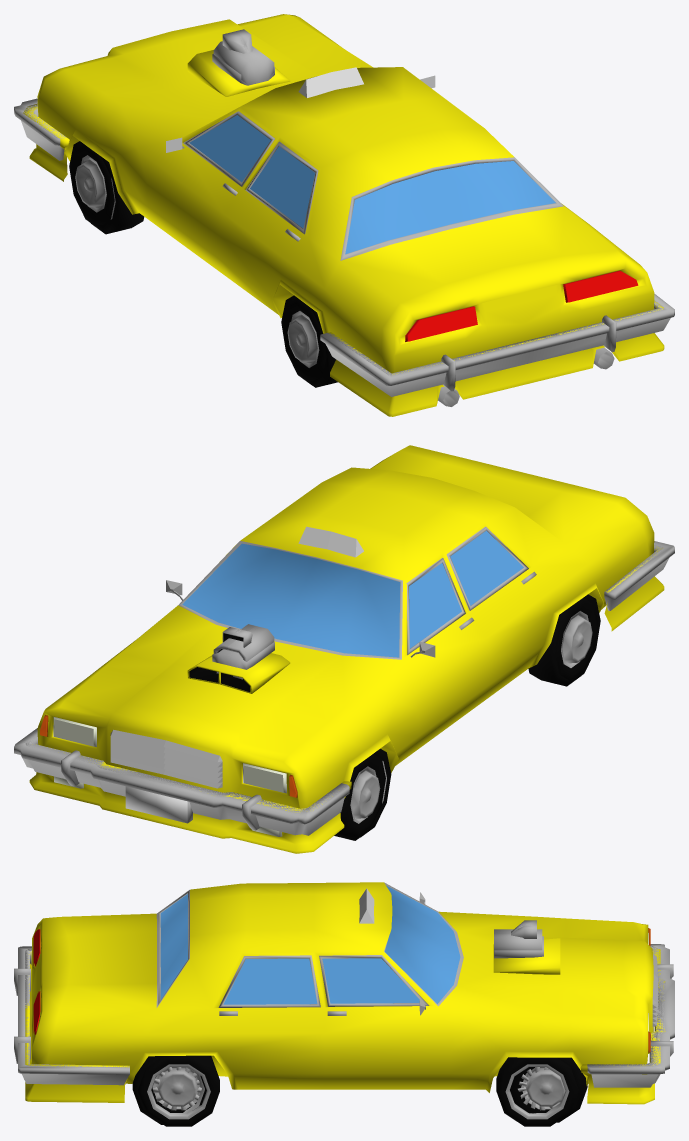
File: taxi_v2.fbx
The picture shows the model from 3 angles, top to bottom: view 1: azimuth 30°, elevation 25°; view 2: azimuth 150°, elevation 25°; view 3: azimuth 270°, elevation 25°; orthographic projection. The views are drawn at different scales.
Visible parts, largest first — view 1: Taxi, RearBumper1, RearBumper4, Wheel1rr.003, Wheel1rr.002, Break, silnik3, silnik1, FrontBumper1, Logo, FrontBumper4, silnik2 (+1 smaller); view 2: Taxi, FrontBumper1, FrontBumper4, Grill1, Wheel1rr.002, Wheel1rr.003, silnik3, HeadLights, RearBumper1, RearBumper4, silnik2, Logo (+4 smaller); view 3: Taxi, FrontBumper1, RearBumper1, Wheel3rr, Wheel3fr, RearBumper4, Wheel1rr.001, FrontBumper4, Wheel1rr, silnik3, silnik1, silnik2 (+5 smaller).
Part boxes in pixels (bbox=[...]): Taxi: bbox=[37, 14, 654, 373]; RearBumper1: bbox=[320, 293, 674, 396]; RearBumper4: bbox=[328, 301, 664, 416]; Wheel1rr.003: bbox=[69, 141, 114, 224]; Wheel1rr.002: bbox=[282, 295, 326, 385]; Break: bbox=[408, 271, 638, 341]; silnik3: bbox=[187, 50, 290, 96]; silnik1: bbox=[213, 41, 274, 85]; FrontBumper1: bbox=[14, 98, 66, 160]; Logo: bbox=[298, 67, 363, 97]; FrontBumper4: bbox=[23, 104, 69, 181]; silnik2: bbox=[212, 29, 274, 85]; Taxi: bbox=[37, 445, 654, 808]; FrontBumper1: bbox=[14, 728, 349, 835]; FrontBumper4: bbox=[29, 744, 351, 853]; Grill1: bbox=[110, 729, 222, 788]; Wheel1rr.002: bbox=[555, 597, 598, 680]; Wheel1rr.003: bbox=[334, 755, 385, 840]; silnik3: bbox=[187, 653, 290, 693]; HeadLights: bbox=[53, 717, 286, 793]; RearBumper1: bbox=[604, 541, 674, 610]; RearBumper4: bbox=[604, 546, 664, 631]; silnik2: bbox=[212, 627, 274, 679]; Logo: bbox=[298, 526, 363, 557]; Taxi: bbox=[31, 882, 653, 1092]; FrontBumper1: bbox=[587, 944, 674, 1087]; RearBumper1: bbox=[14, 946, 129, 1085]; Wheel3rr: bbox=[138, 1055, 219, 1126]; Wheel3fr: bbox=[496, 1057, 578, 1126]; RearBumper4: bbox=[25, 951, 129, 1102]; Wheel1rr.001: bbox=[510, 1057, 587, 1122]; FrontBumper4: bbox=[580, 948, 665, 1104]; Wheel1rr: bbox=[151, 1055, 212, 1112]; silnik3: bbox=[493, 938, 560, 974]; silnik1: bbox=[494, 929, 542, 957]; silnik2: bbox=[494, 920, 543, 958].
Size of the model in its own units: 156 by 99.41 by 350.
